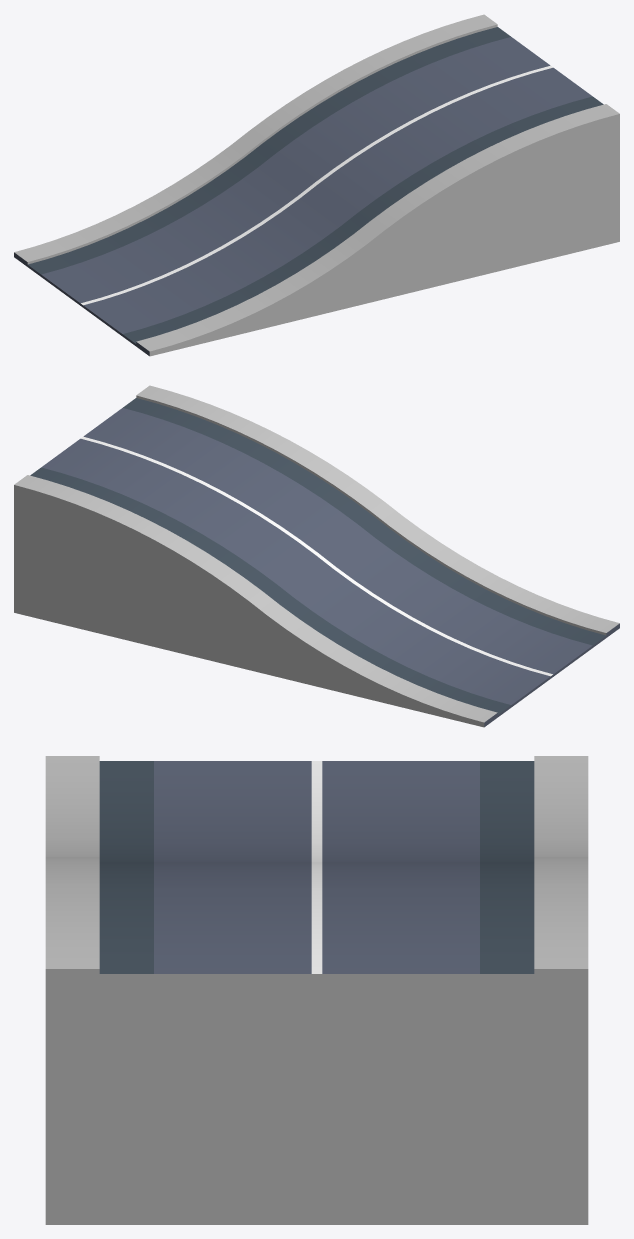
Rendered from SM_Road_Slant_Curve.fbx.
The picture shows the model from 3 angles, top to bottom: view 1: azimuth 30°, elevation 25°; view 2: azimuth 150°, elevation 25°; view 3: azimuth 270°, elevation 25°; orthographic projection. The views are drawn at different scales.
Visible parts, largest first — view 1: SM_Road_Slant_Curve; view 2: SM_Road_Slant_Curve; view 3: SM_Road_Slant_Curve.
Boxes of the visible parts, x1,y1,x2,y2 form: SM_Road_Slant_Curve: [14, 14, 619, 356]; SM_Road_Slant_Curve: [14, 385, 619, 727]; SM_Road_Slant_Curve: [45, 756, 588, 1224].
Bounding box in the file's own units: 2000 × 520 × 1000.
